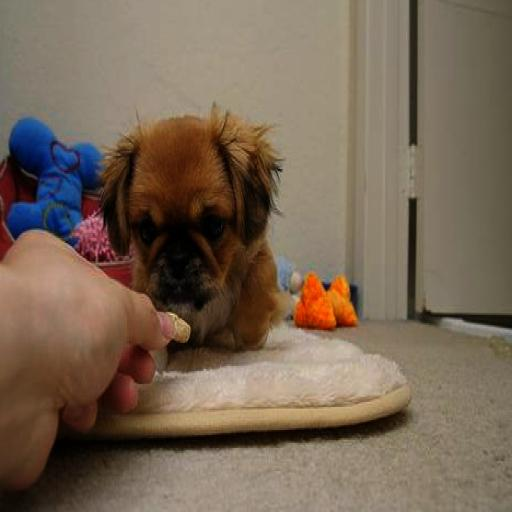dog_face: (96, 120, 276, 326)
